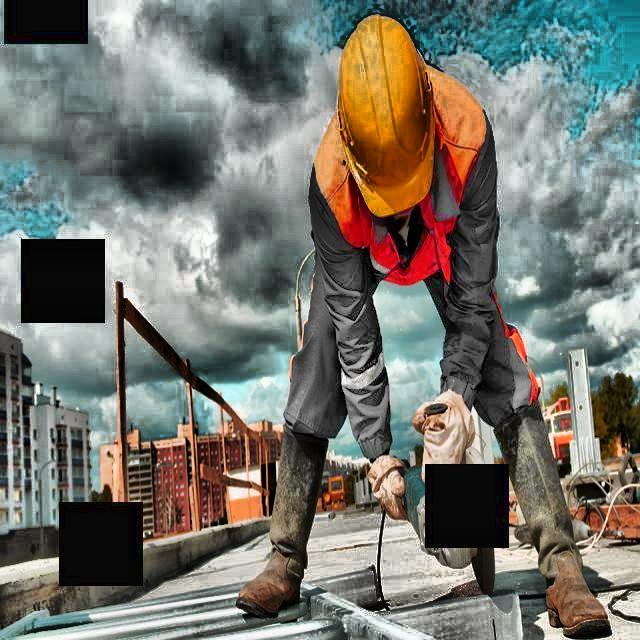safety_helmet: (336, 13, 437, 217)
safety_jacket: (313, 66, 488, 288)
